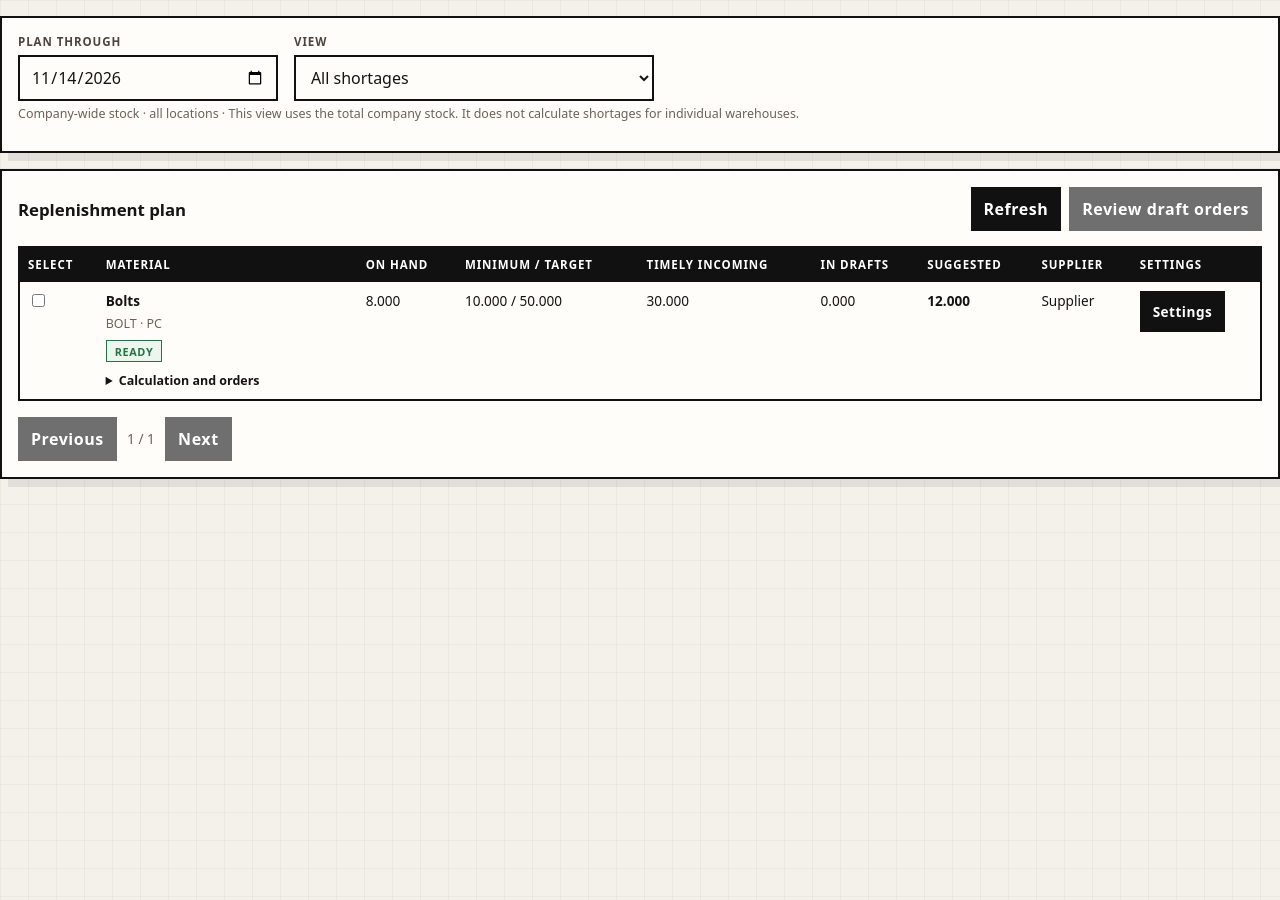
Test case: replenishment screen › shows quantities and requires review before mutation
expect the text "Bolts" is shown: met, box [106, 291, 140, 310]
Click the checkbox named "Select BOLT" at {"x": 38, "y": 301}, box [32, 294, 45, 307]
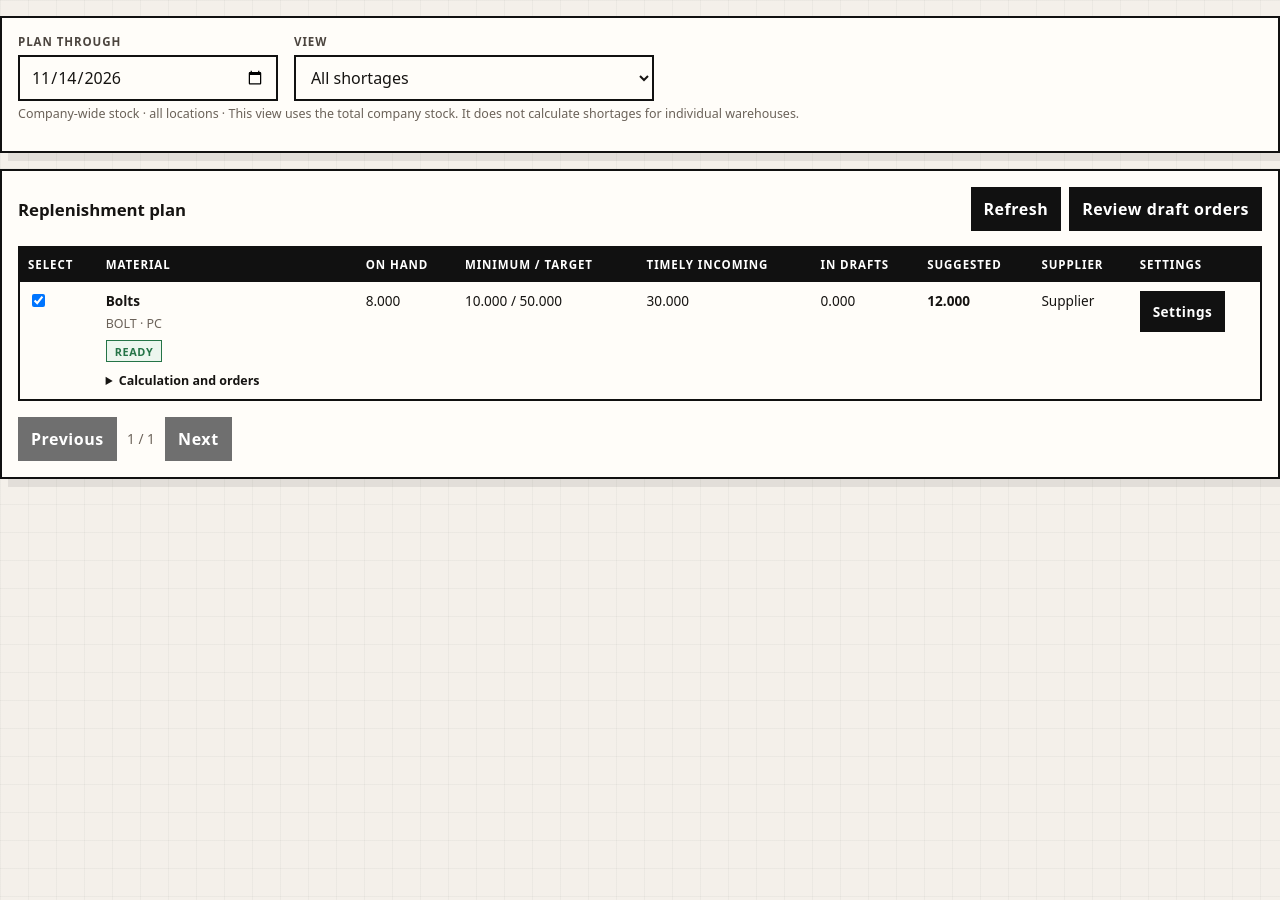
Click the button "Review draft orders" at {"x": 1166, "y": 209}, box [1069, 187, 1262, 231]
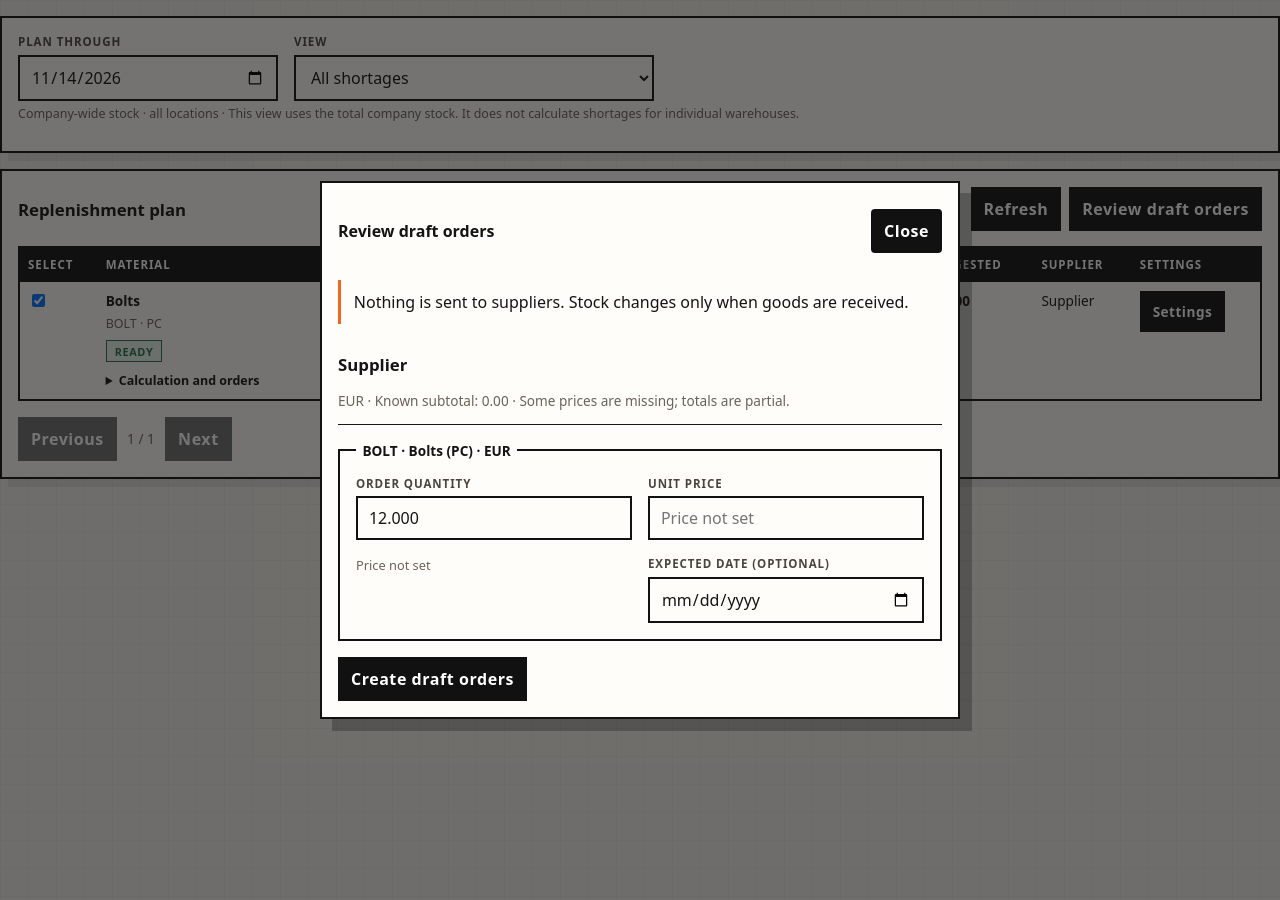
expect the dialog is shown: met
expect the heading "Supplier" is shown: met, box [338, 353, 407, 376]
expect the text "Price not set" is shown: met, box [356, 556, 431, 574]
